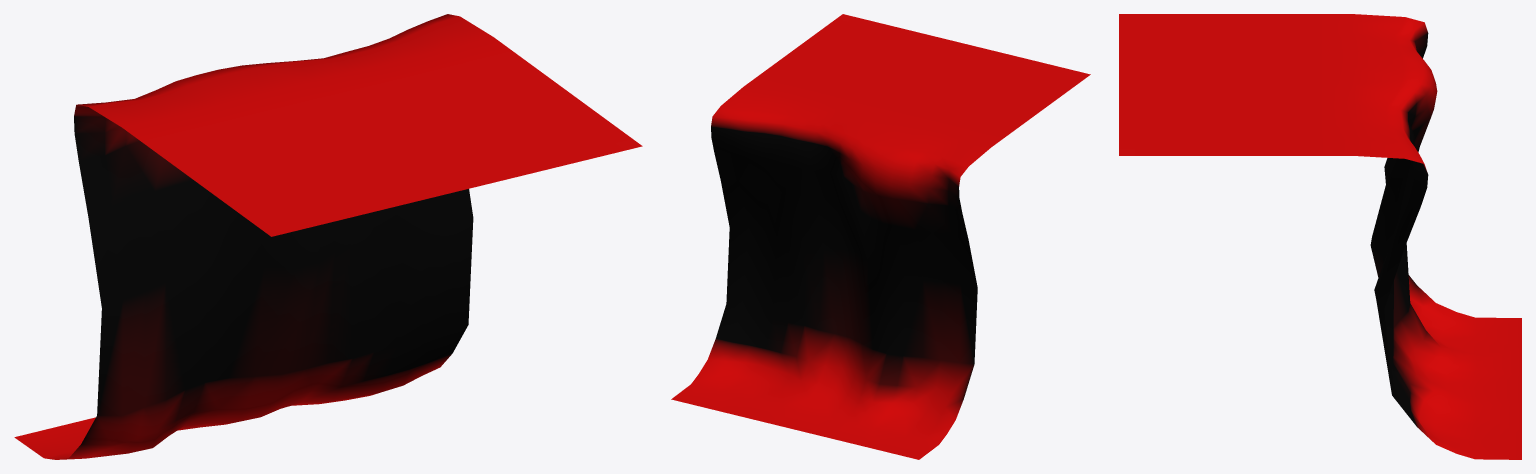
File: GroundCliff00A 1M Foreground.fbx
3 views of the same model, side by side, from view 1: azimuth 30°, elevation 25°; view 2: azimuth 150°, elevation 25°; view 3: azimuth 270°, elevation 25° (orthographic). The views are drawn at different scales.
Visible parts, largest first — view 1: GroundCliff00A 1M Foreground; view 2: GroundCliff00A 1M Foreground; view 3: GroundCliff00A 1M Foreground.
Part boxes in pixels (x1=…): GroundCliff00A 1M Foreground: x1=14, y1=14, x2=642, y2=459; GroundCliff00A 1M Foreground: x1=671, y1=14, x2=1090, y2=459; GroundCliff00A 1M Foreground: x1=1119, y1=14, x2=1521, y2=459.
Size of the model in its own units: 1 by 1 by 1.2.
